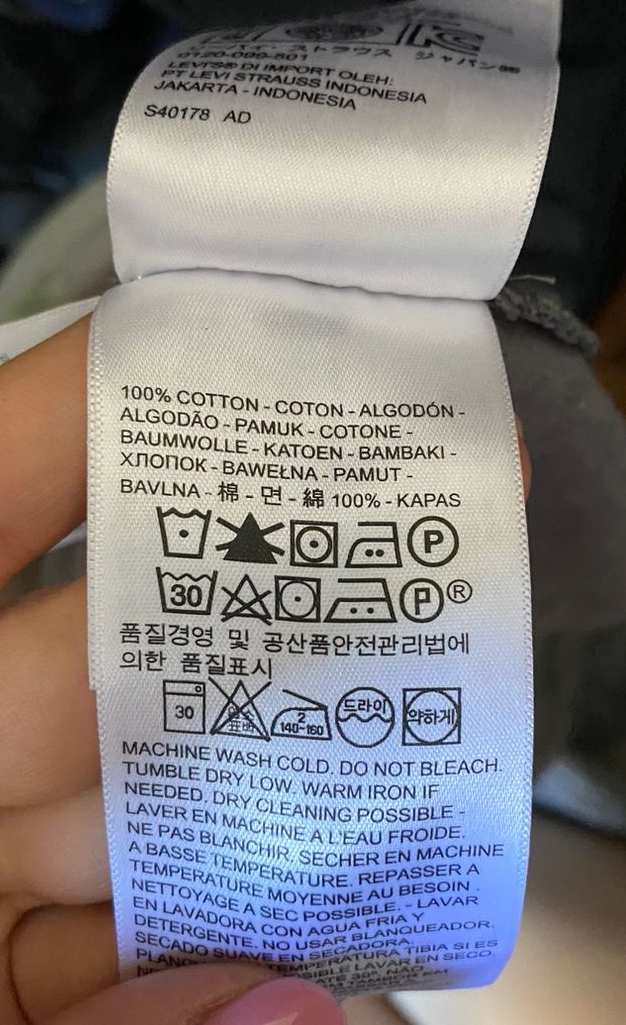do_not_bleach: (212, 505, 288, 566), (214, 569, 276, 631)
dry_clean_tetrachloroethylene_pce_only: (403, 511, 468, 573), (395, 573, 447, 626)
ironing_at_med_temp: (340, 514, 406, 574), (324, 575, 397, 626)
tumble_drying_low_temps: (284, 516, 344, 574), (274, 571, 326, 625)
wash_at_or_below_30: (151, 502, 216, 566), (150, 561, 222, 617)
